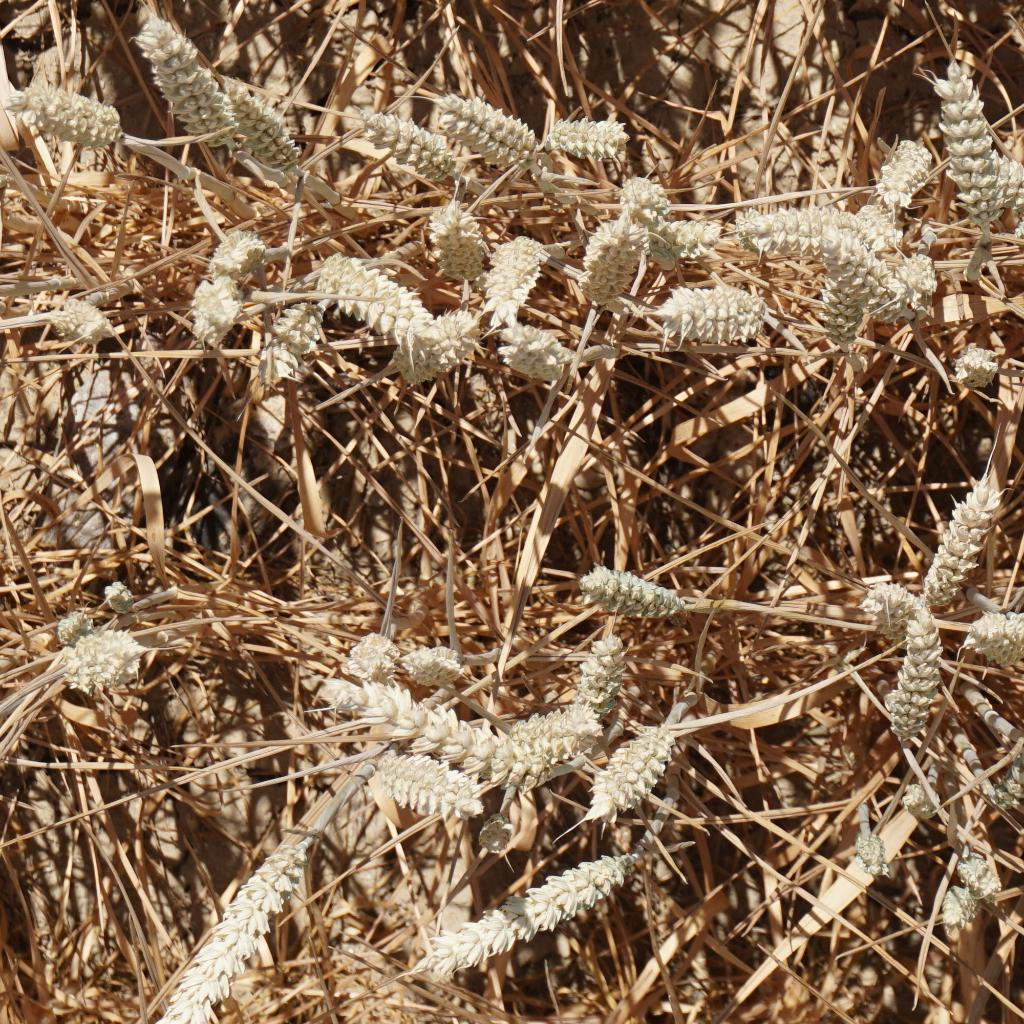0-0: (159, 810, 317, 1024), (392, 835, 628, 967), (294, 658, 500, 763), (927, 65, 1007, 233), (131, 16, 230, 146), (358, 740, 495, 827), (11, 60, 129, 153), (219, 68, 305, 188), (588, 722, 687, 823), (352, 109, 469, 187), (314, 254, 422, 336), (645, 271, 764, 345), (923, 470, 998, 583), (715, 190, 859, 248), (897, 603, 952, 752), (567, 553, 682, 624), (395, 307, 489, 393), (568, 213, 647, 303), (443, 88, 537, 163), (507, 691, 604, 763), (824, 239, 914, 315), (477, 237, 556, 320), (496, 324, 585, 395), (56, 627, 150, 692), (563, 621, 625, 711), (187, 217, 267, 285), (816, 251, 876, 341), (325, 607, 403, 676), (632, 200, 715, 264), (426, 197, 486, 281), (259, 295, 320, 374), (867, 124, 928, 199), (184, 268, 241, 344), (44, 290, 116, 349), (543, 111, 635, 156), (859, 576, 928, 631), (948, 843, 1011, 899), (985, 150, 1024, 239), (396, 631, 457, 682), (964, 603, 1016, 662), (851, 195, 917, 241), (841, 824, 896, 879), (931, 863, 976, 928), (891, 763, 944, 817), (894, 246, 947, 300), (948, 335, 998, 389), (598, 172, 662, 214), (96, 580, 144, 618), (51, 603, 93, 636)
